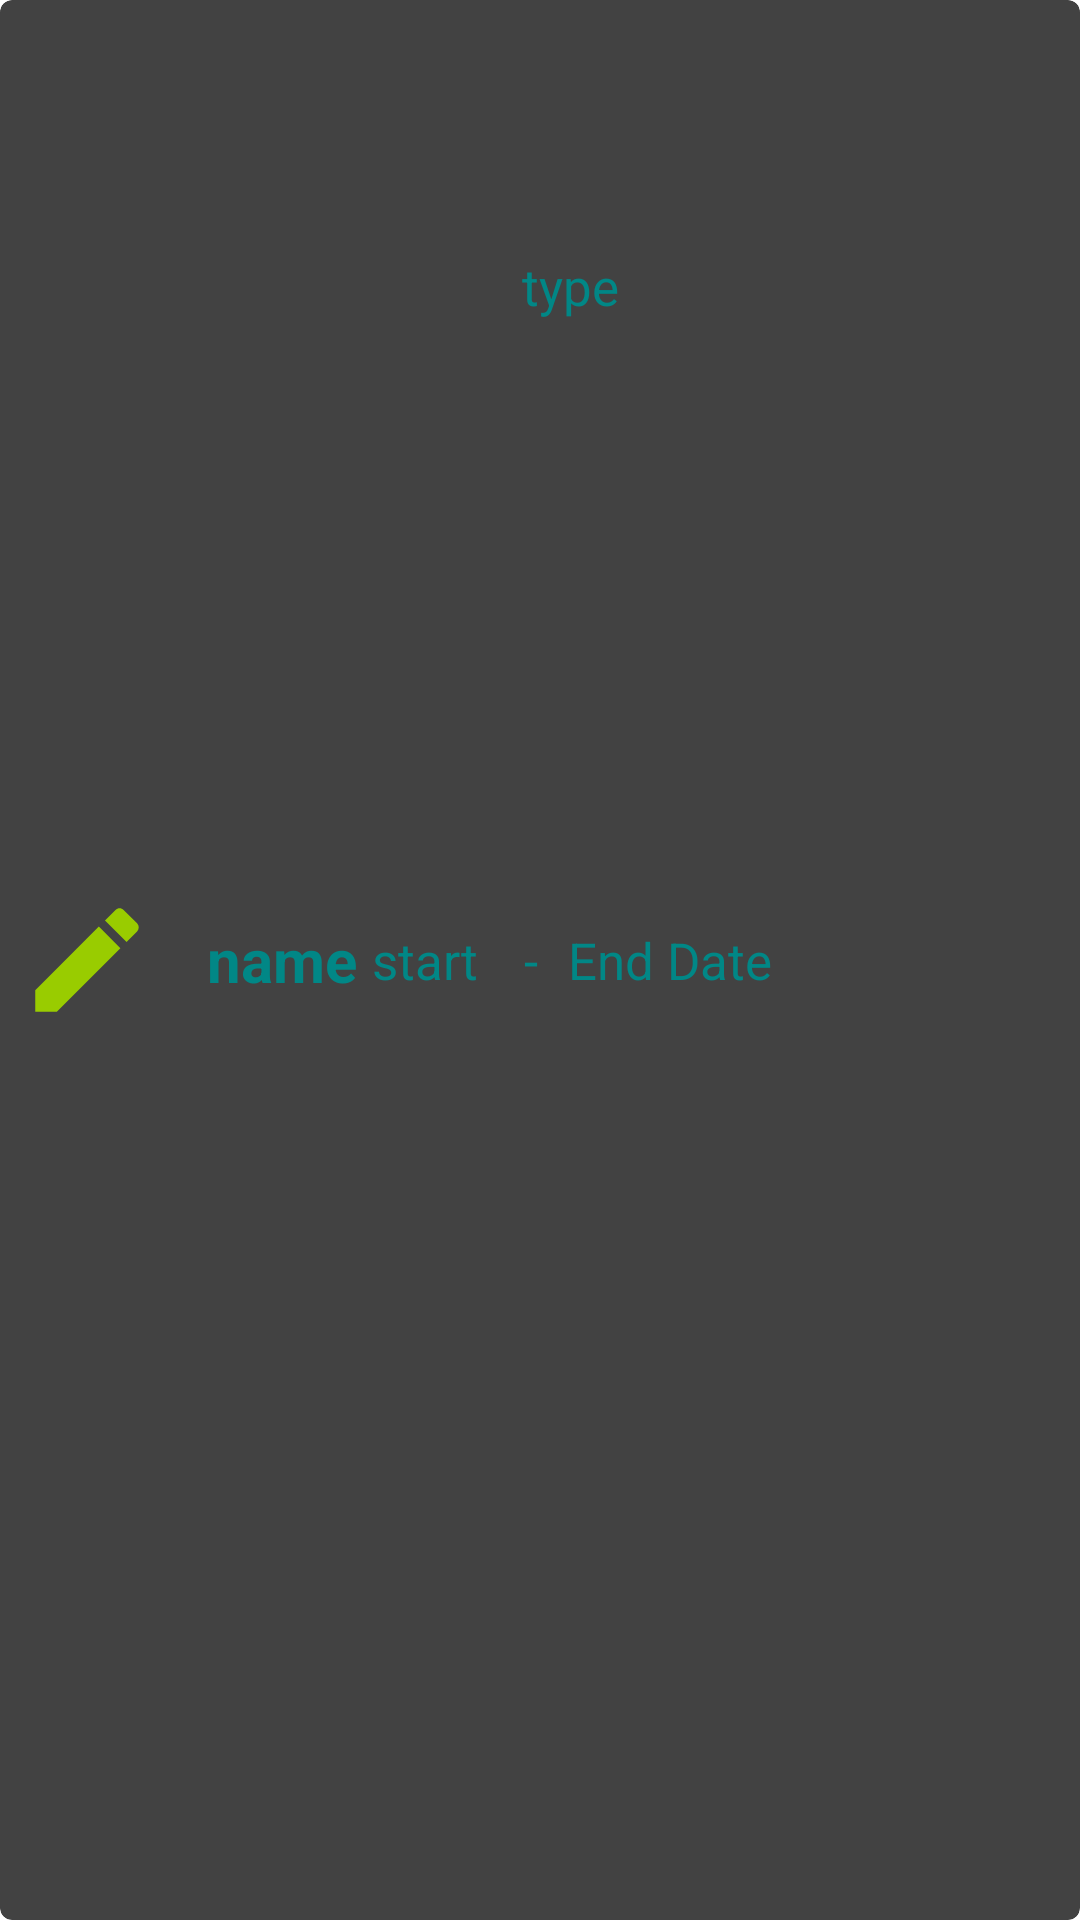

Screen size 1080w x 1920h. Icon name, then its box in pixels as region(x1, y1, x2, y2):
edit: region(35, 908, 139, 1012)
